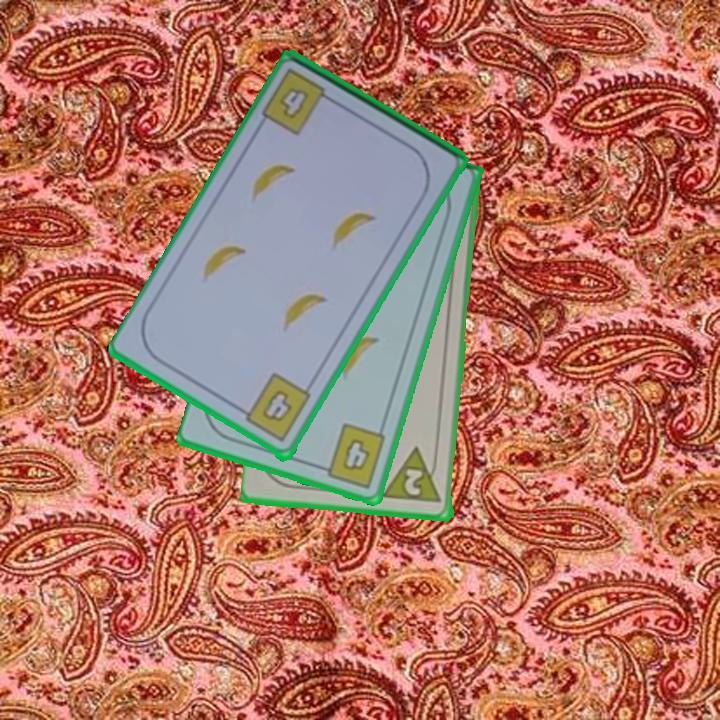2p: (382, 445, 445, 506)
4b: (234, 370, 314, 446), (315, 419, 389, 491), (275, 84, 312, 122)
